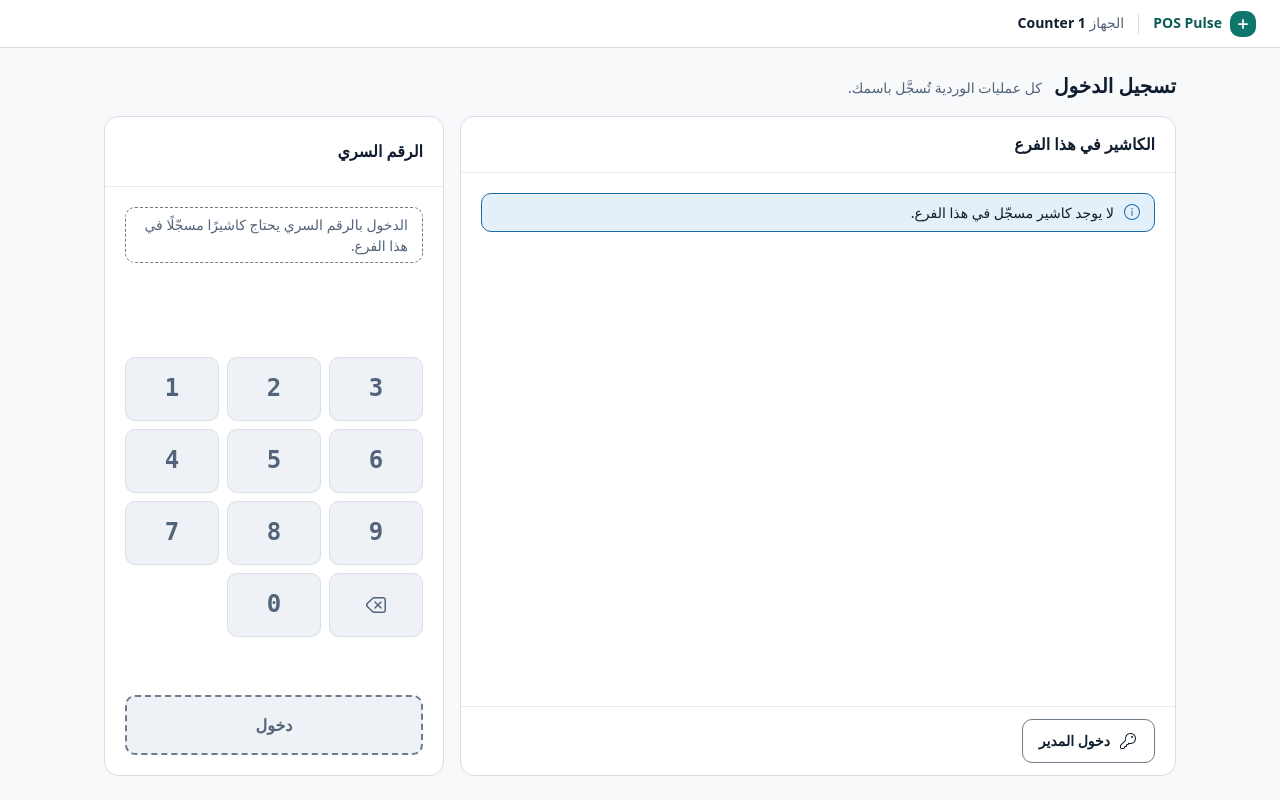
Test: AppRouter + /sign-in (T022) › successful manager sign-in navigates from /sign-in into the dashboard
Click the button with test id "sign-in-manager-entry" at point(1088, 741), box [1022,719,1155,763]
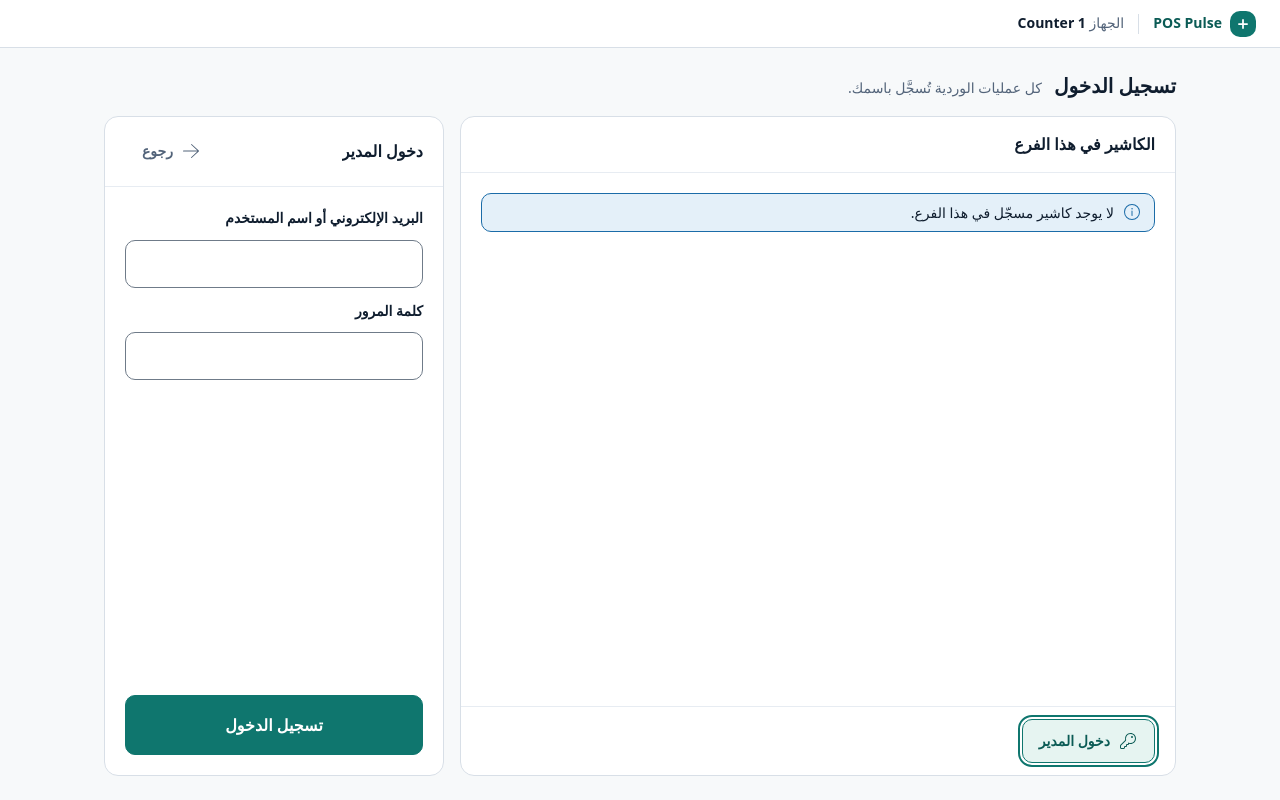
Type "manager@x.test" into the field with test id "sign-in-identifier" at point(274, 264), box [125,240,423,288]
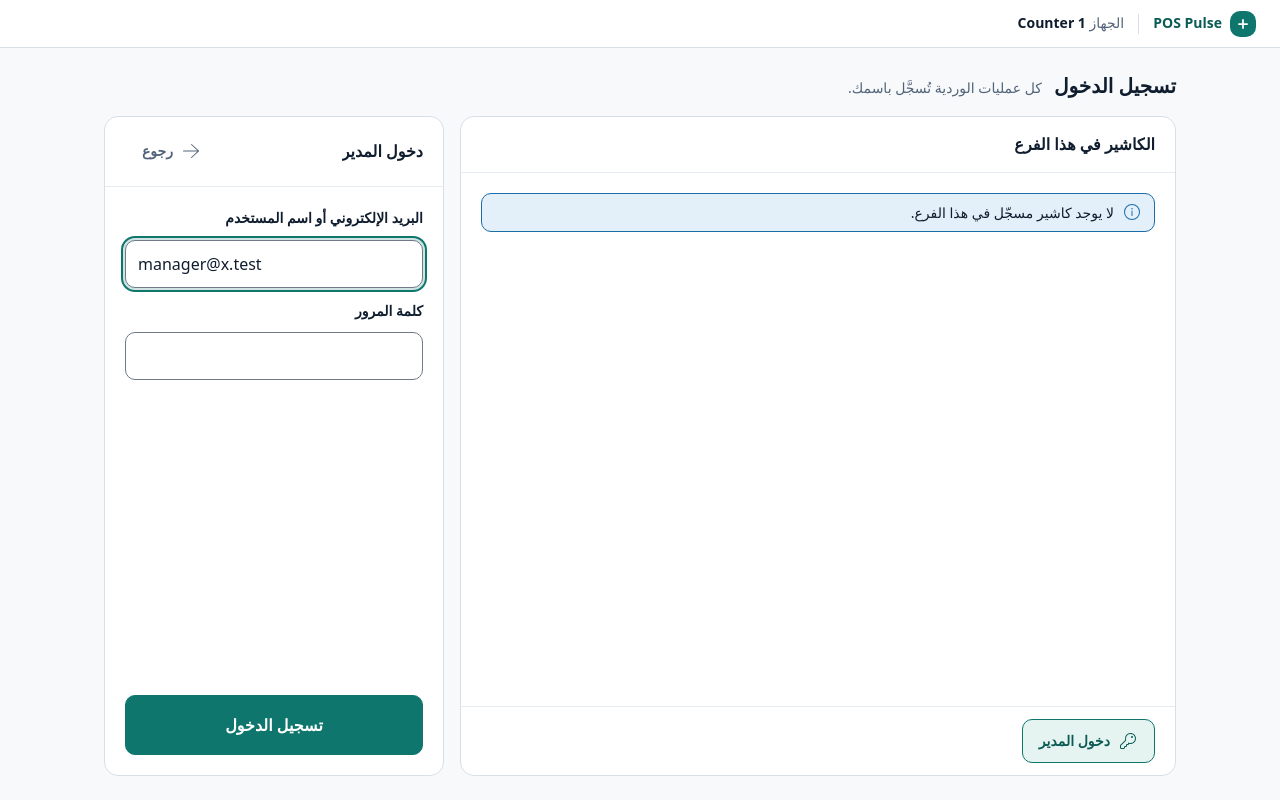
Type "p" into the password field with test id "sign-in-password" at point(274, 356), box [125,332,423,380]
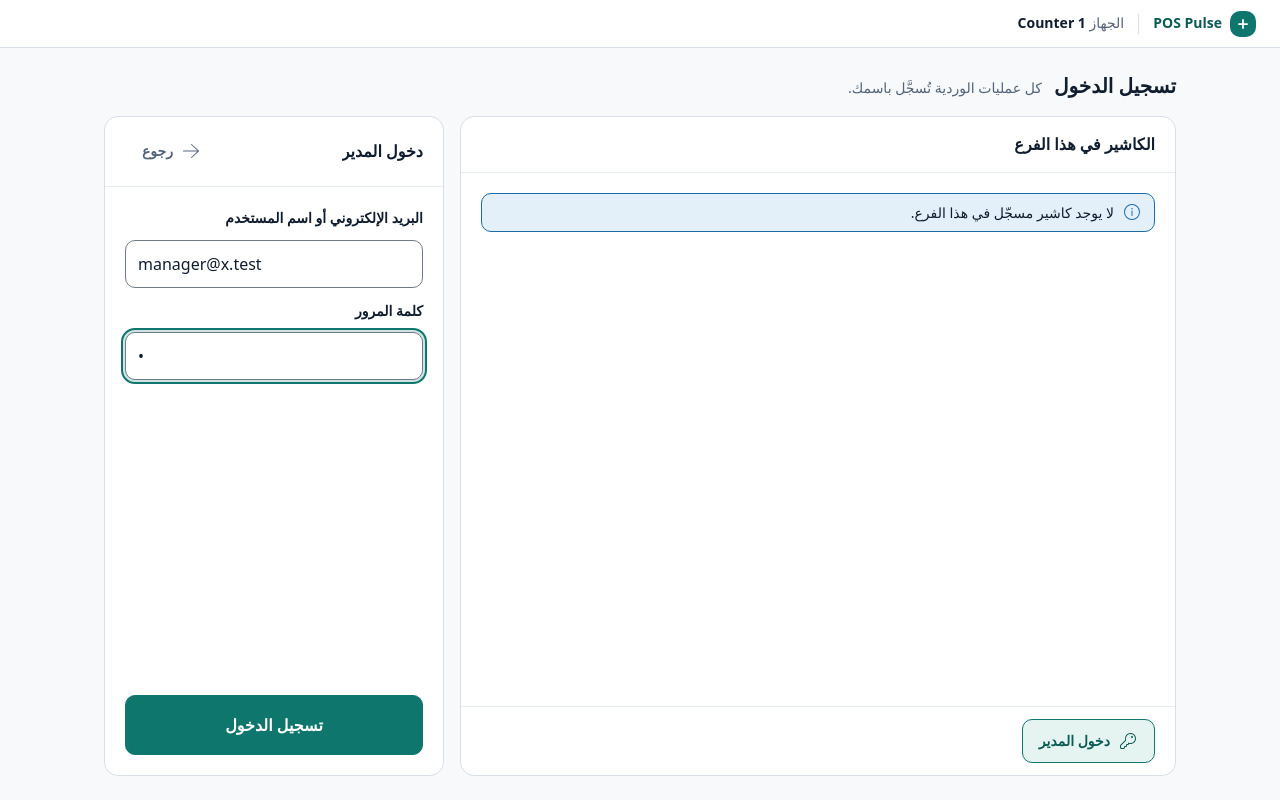
Click the button with test id "sign-in-submit" at point(274, 725), box [125,695,423,755]
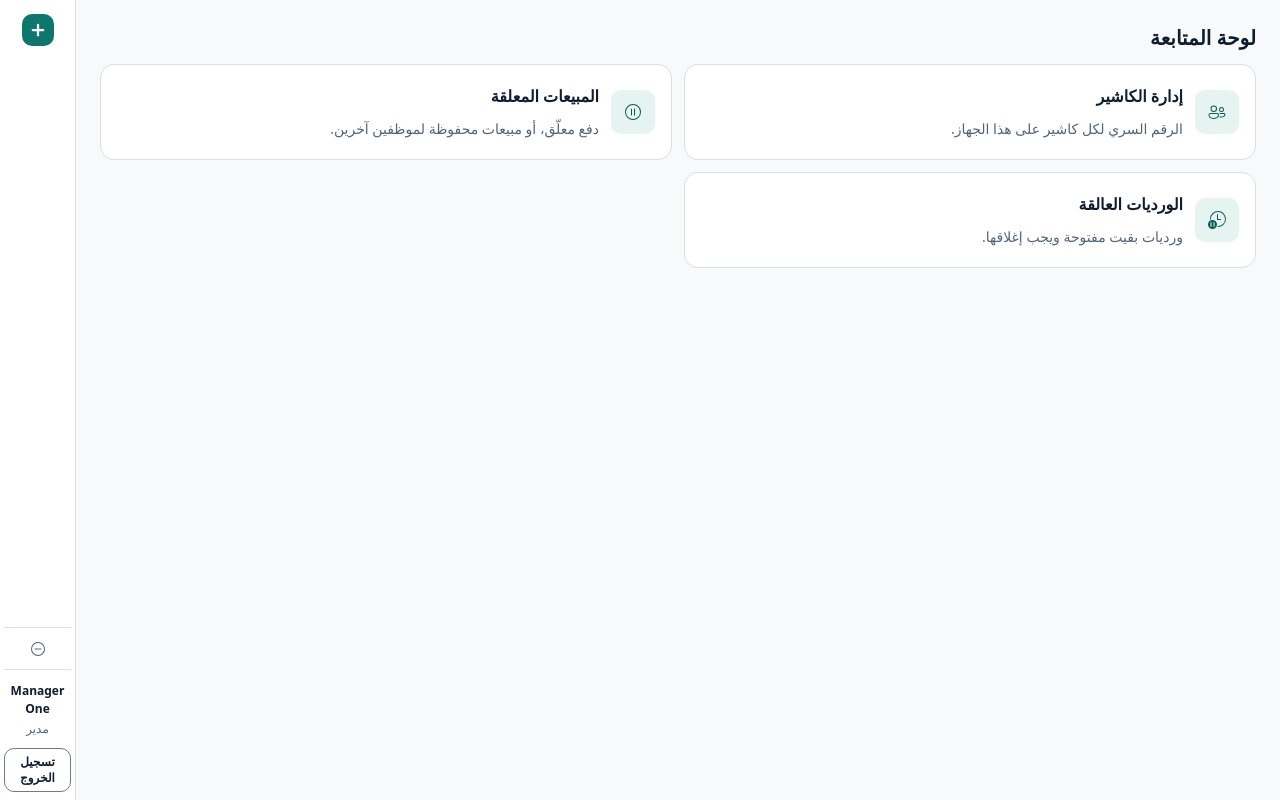
Expected: the link with test id "dashboard-cashier-management-link" is shown, [684,64,1256,160]
Expected: the element with test id "route-sign-in" is gone
